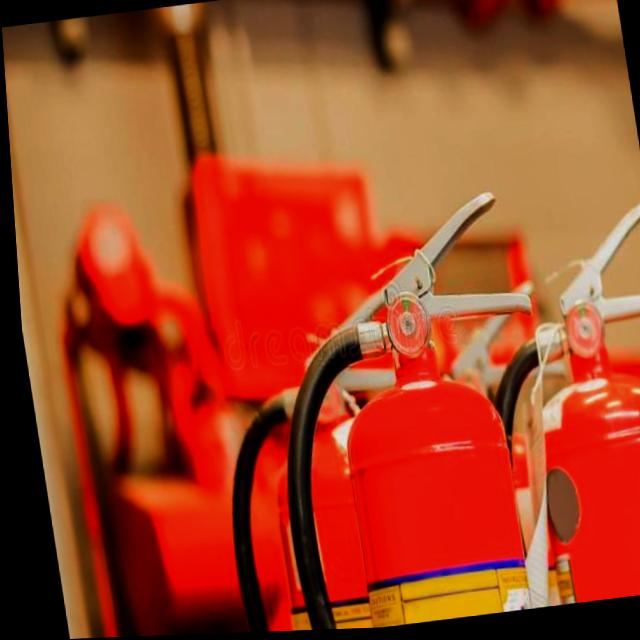FireExtinguisher: (234, 185, 572, 634), (182, 269, 461, 635), (437, 197, 640, 615)
